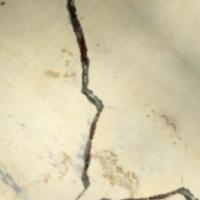crack: (43, 1, 109, 199)
